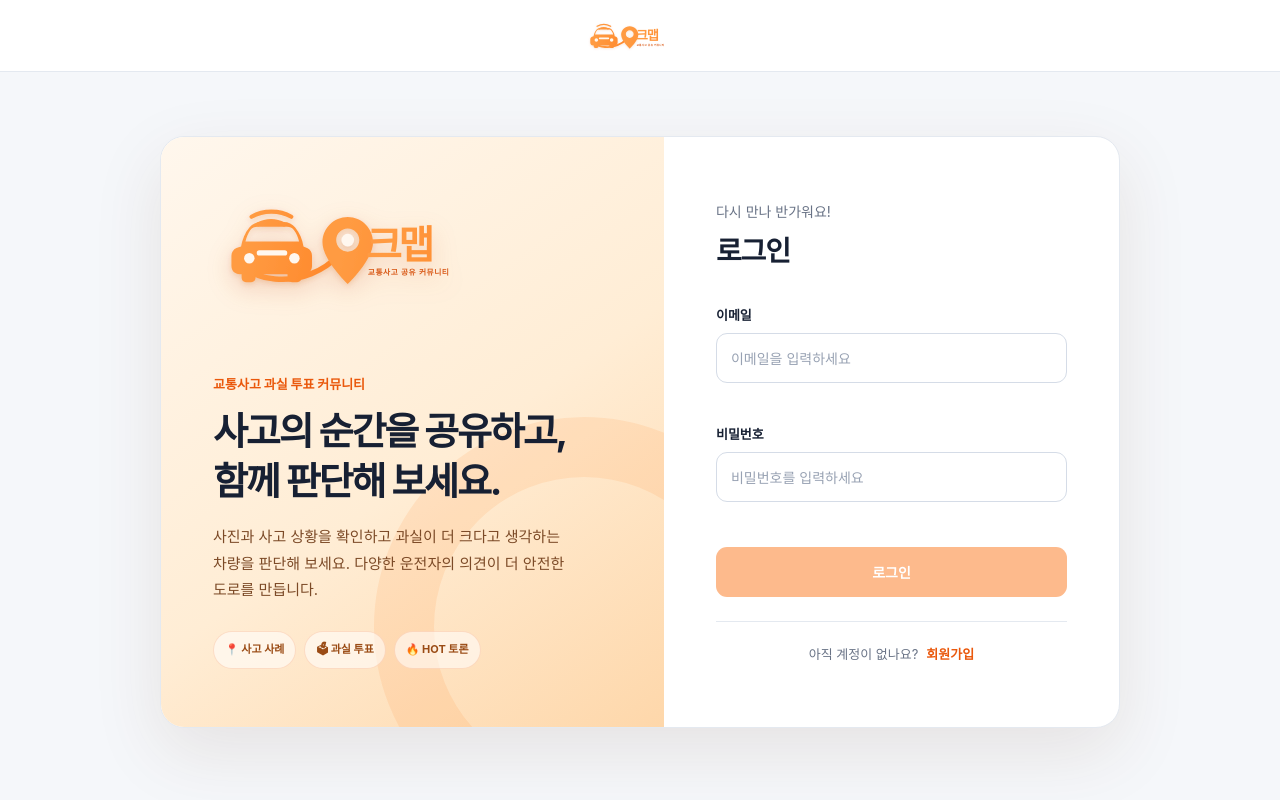
Test: LoginPage › 이메일과 비밀번호 입력 형식을 검증한다
Type "invalid-email" into the field labelled "이메일" at [891, 358], box [716, 333, 1067, 383]
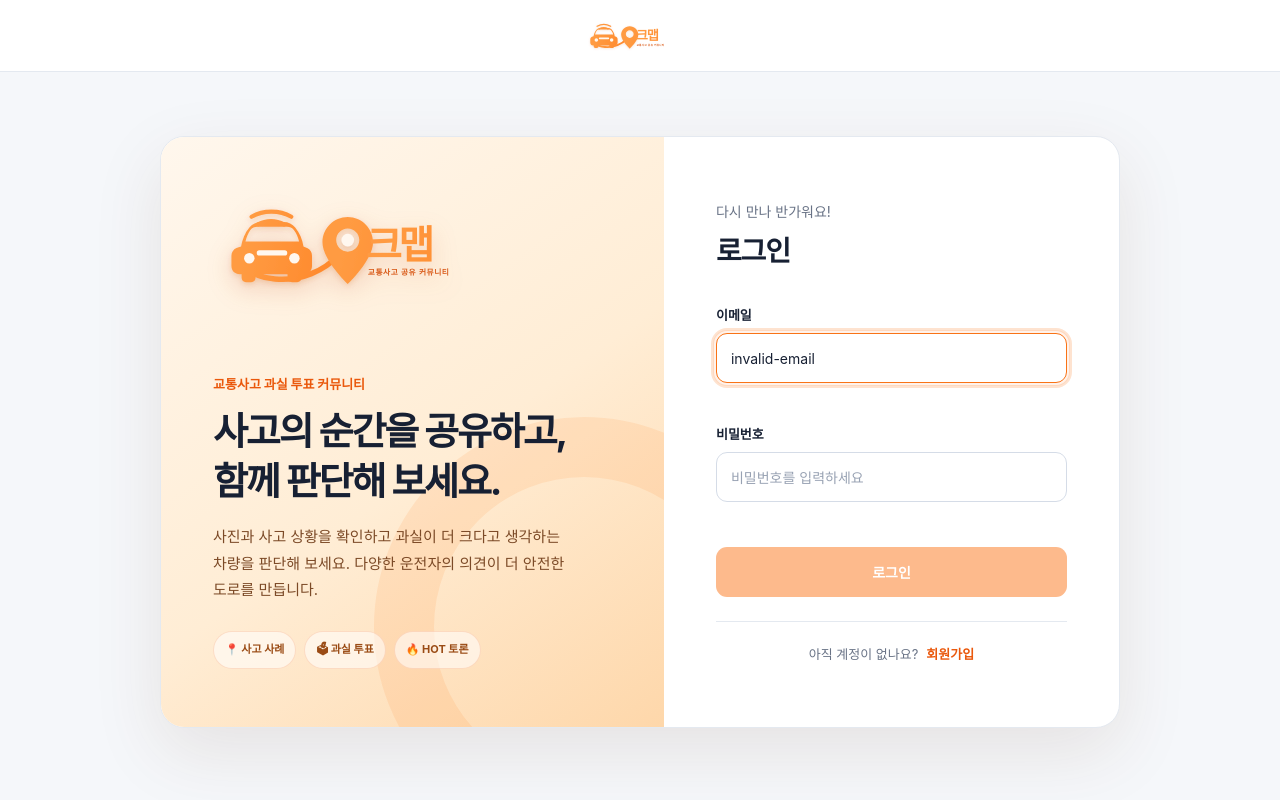
Press Tab
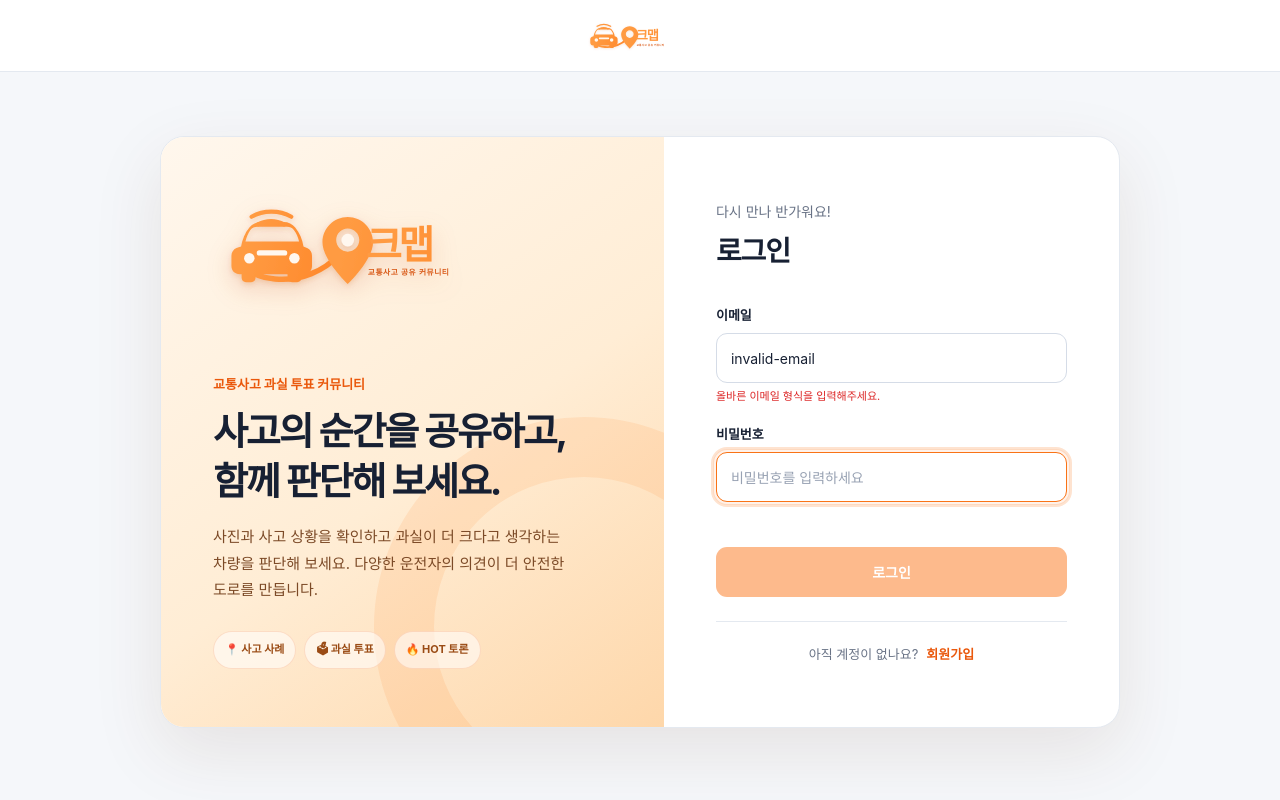
Type "short" into the password field labelled "비밀번호" at [891, 477], box [716, 452, 1067, 502]
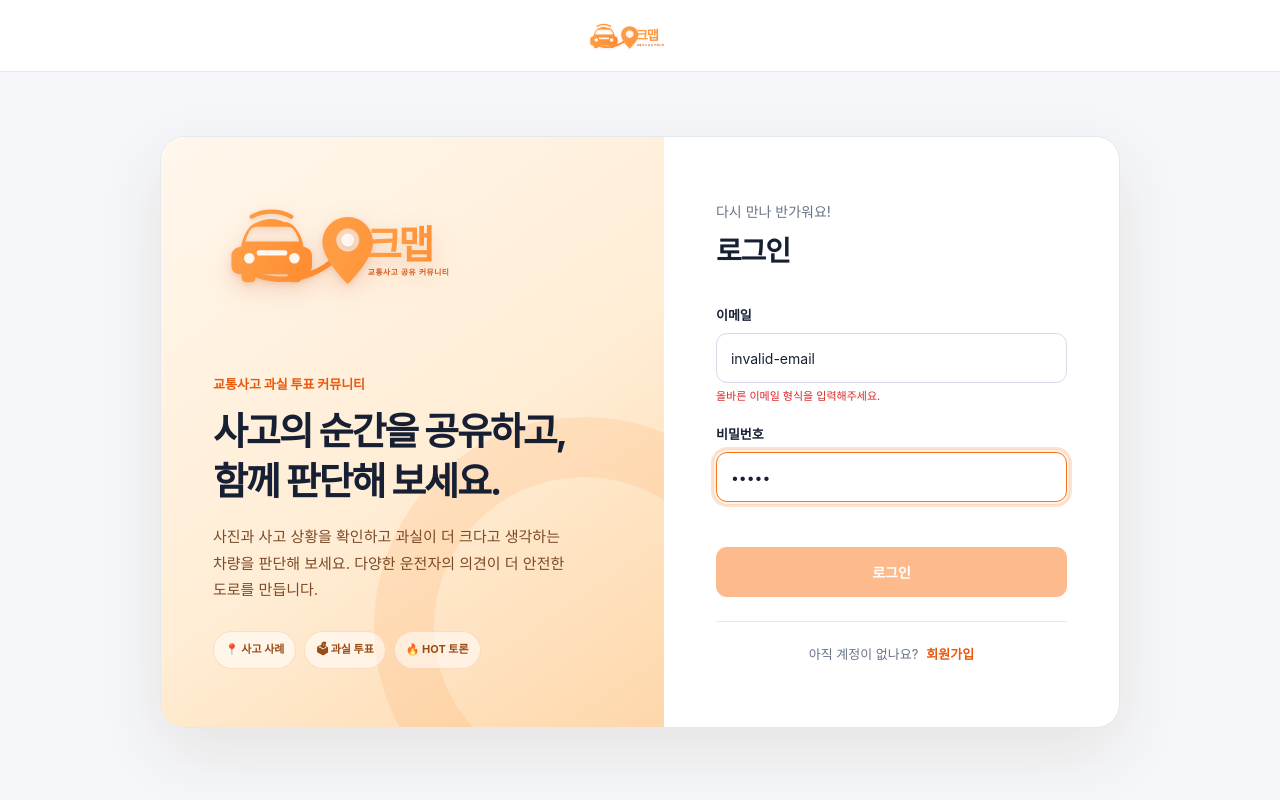
Press Tab
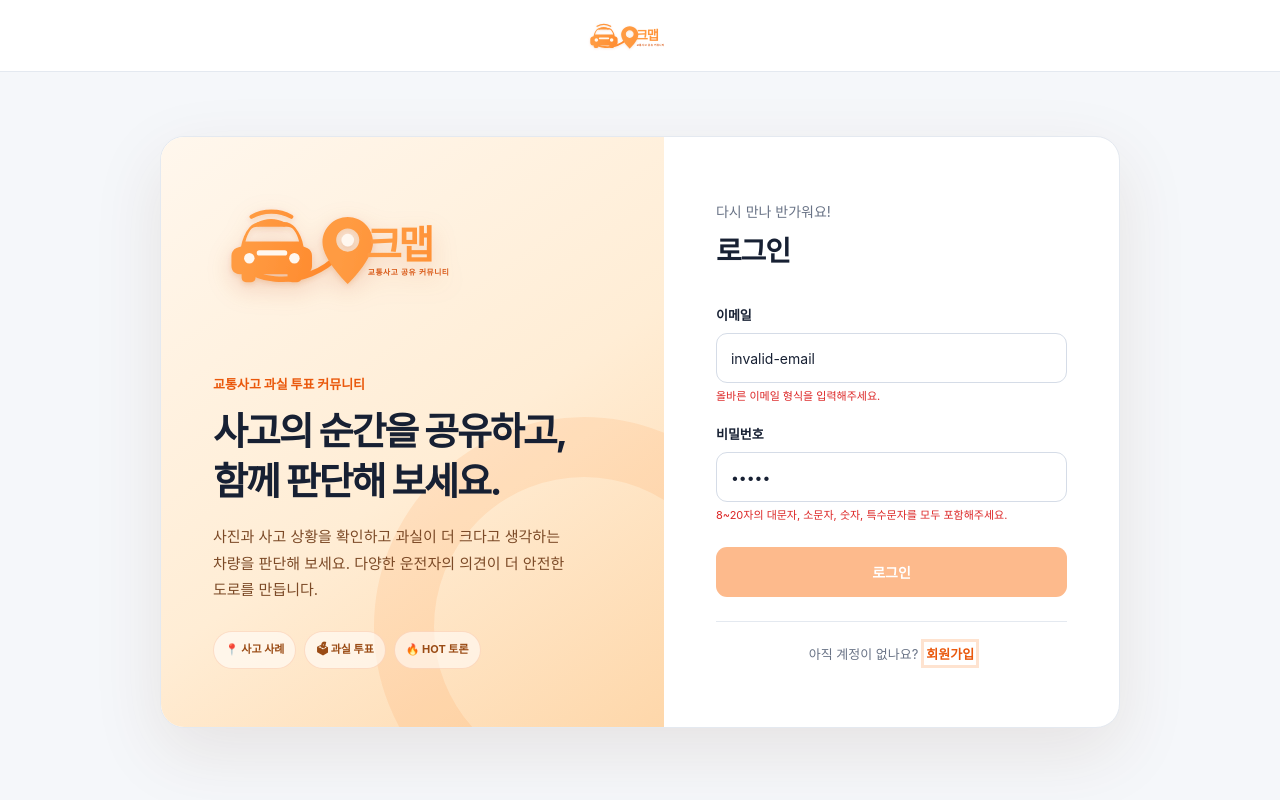
Expected: the button "로그인" is disabled, [716, 547, 1067, 597]
Expected: the text "올바른 이메일 형식을 입력해주세요." is shown, [716, 389, 880, 403]
Expected: the text "8~20자의 대문자, 소문자, 숫자, 특수문자를 모두 포함해주세요." is shown, [716, 508, 1007, 522]
